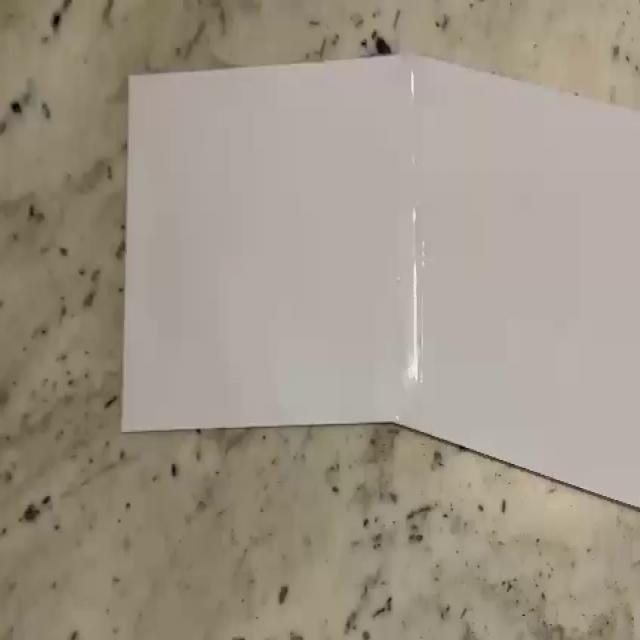road: (120, 55, 640, 511)
